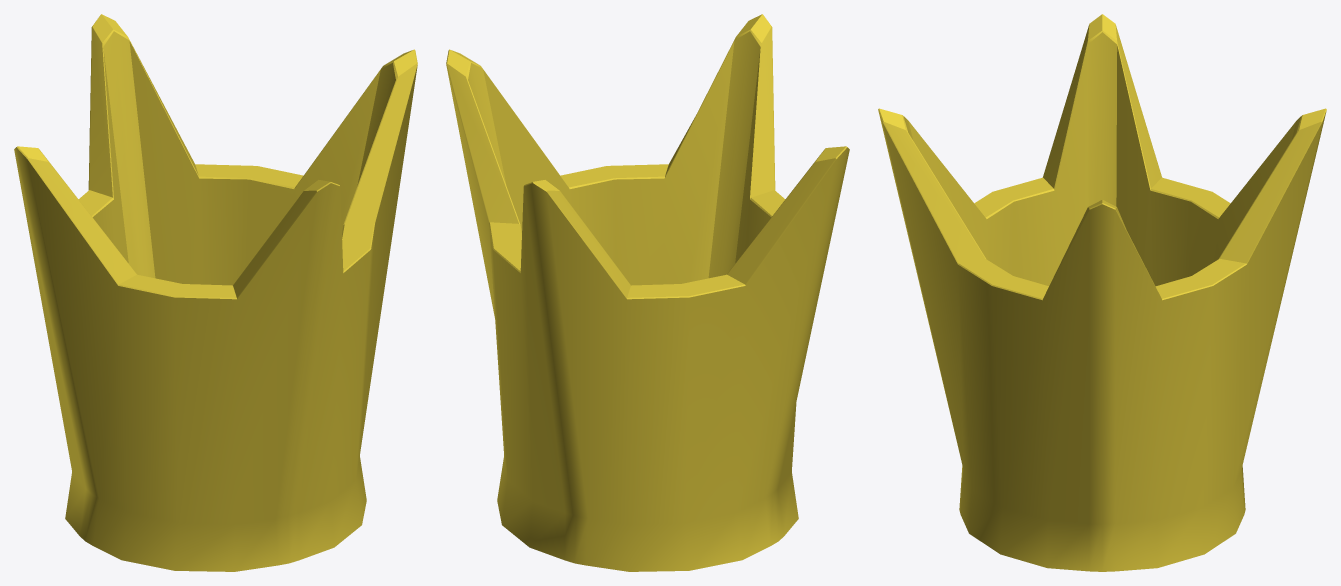
File: Crown.fbx
3 views of the same model, side by side, from view 1: azimuth 30°, elevation 25°; view 2: azimuth 150°, elevation 25°; view 3: azimuth 270°, elevation 25° (orthographic). The views are drawn at different scales.
Visible parts, largest first — view 1: Crown; view 2: Crown; view 3: Crown.
Boxes of the visible parts, x1,y1,x2,y2 form: Crown: [14, 14, 417, 571]; Crown: [446, 14, 849, 571]; Crown: [878, 14, 1326, 571].
Bounding box in the file's own units: 9.56 × 9.44 × 9.56.
